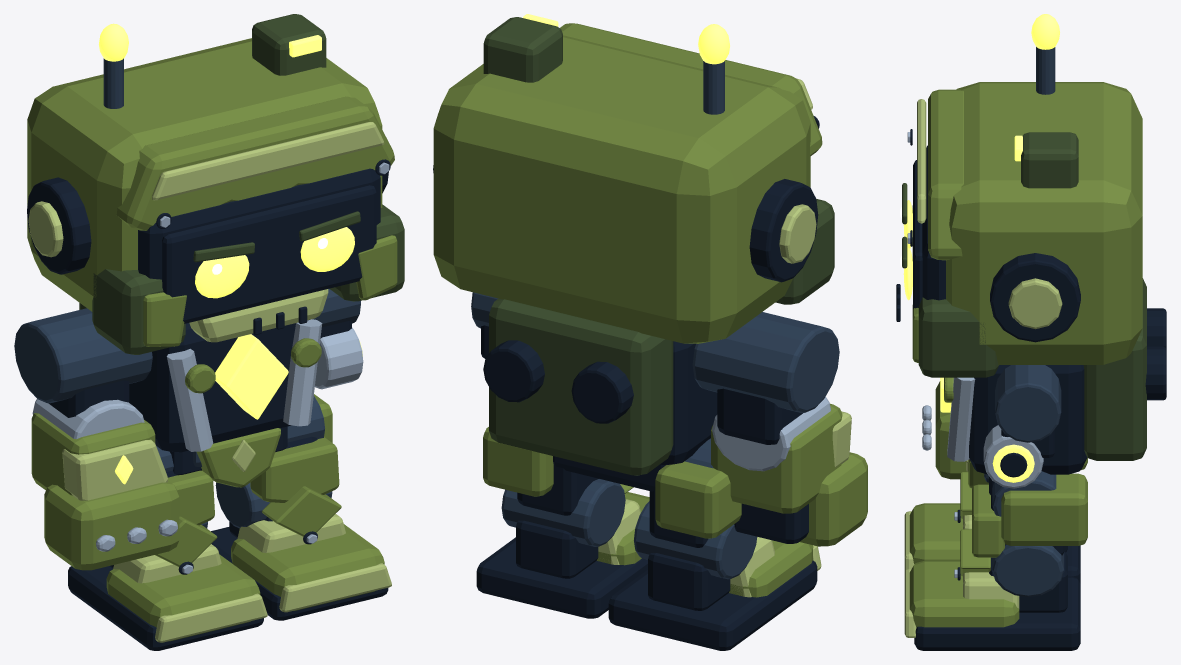
Rendered from terra.glb.
3 renders of one model, left to right at view 1: azimuth 30°, elevation 25°; view 2: azimuth 150°, elevation 25°; view 3: azimuth 270°, elevation 25°, orthographic. The views are drawn at different scales.
Parts seen in each view (by area): view 1: HeadArmor, LeftArmArmor, RightLegArmor, LeftLegArmor, TorsoArmor, RigArmor, HipsArmor, Core, EyeLeft, EyeRight; view 2: HeadArmor, RigArmor, LeftArmArmor, LeftLegArmor, RightLegArmor, TorsoArmor, HipsArmor; view 3: HeadArmor, RigArmor, RightLegArmor, TorsoArmor, LeftLegArmor, LeftArmArmor, HipsArmor.
Part boxes in pixels (x1,y1,x2,y2): HeadArmor: (27,14,404,354); LeftArmArmor: (14,308,179,570); RightLegArmor: (211,395,391,620); LeftLegArmor: (68,446,267,650); TorsoArmor: (129,319,322,466); RigArmor: (79,288,363,442); HipsArmor: (170,426,287,487); Core: (215,334,288,419); EyeLeft: (195,255,249,298); EyeRight: (300,227,354,271); HeadArmor: (433,14,834,343); RigArmor: (471,292,741,538); LeftArmArmor: (692,312,867,546); LeftLegArmor: (608,438,821,650); RightLegArmor: (476,464,649,618); TorsoArmor: (660,341,717,464); HipsArmor: (553,456,665,491); HeadArmor: (896,14,1142,377); RigArmor: (983,278,1166,545); RightLegArmor: (904,471,1080,650); TorsoArmor: (944,365,1087,482); LeftLegArmor: (904,472,1080,583); LeftArmArmor: (922,381,967,479); HipsArmor: (966,459,993,495).
Bounding box in the file's own units: 1.85 × 2.9 × 1.31.
